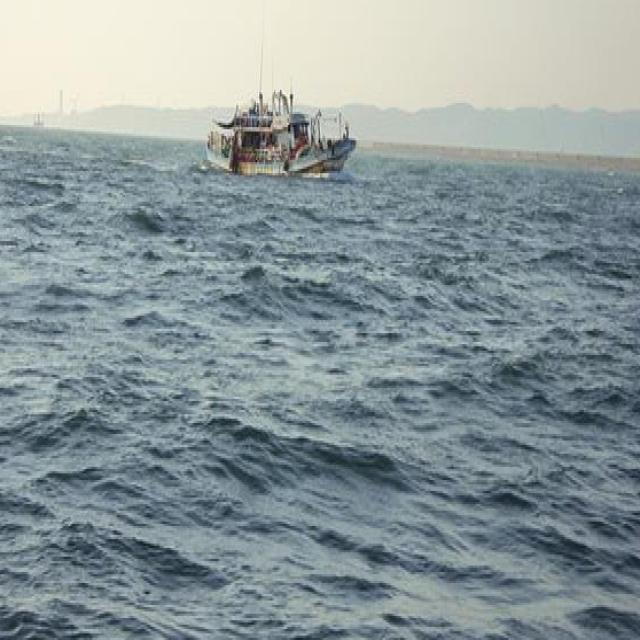fishing boat: (204, 65, 357, 182)
